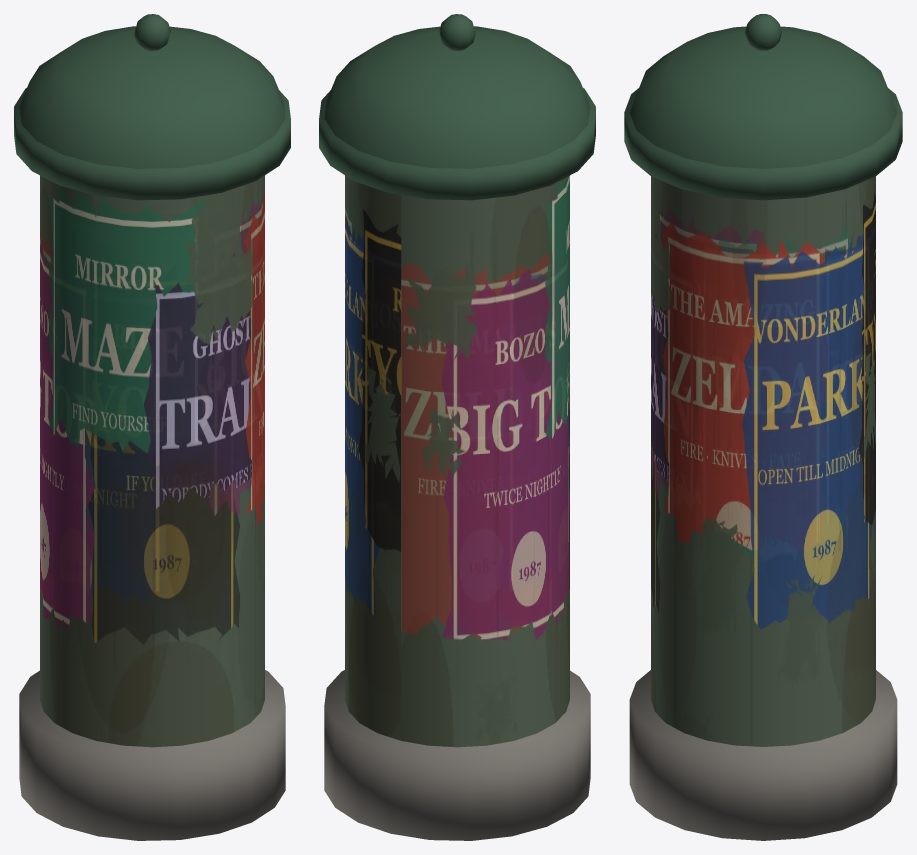
The model's file is poster_column.glb.
3 views of the same model, side by side, from view 1: azimuth 30°, elevation 25°; view 2: azimuth 150°, elevation 25°; view 3: azimuth 270°, elevation 25° (orthographic).
Parts seen in each view (by area): view 1: shaft, dome, foot; view 2: shaft, dome, foot; view 3: shaft, dome, foot.
Part boxes in pixels (left/top/right/bottom): shaft: left=40, top=175, right=264, bottom=747; dome: left=14, top=14, right=290, bottom=200; foot: left=19, top=670, right=285, bottom=840; shaft: left=345, top=175, right=569, bottom=747; dome: left=319, top=14, right=595, bottom=200; foot: left=324, top=670, right=590, bottom=840; shaft: left=651, top=176, right=875, bottom=746; dome: left=624, top=14, right=902, bottom=200; foot: left=629, top=670, right=897, bottom=840.
Size of the model in its own units: 1.04 by 3.17 by 1.04.
Materials: 3 (1 with a texture image).
